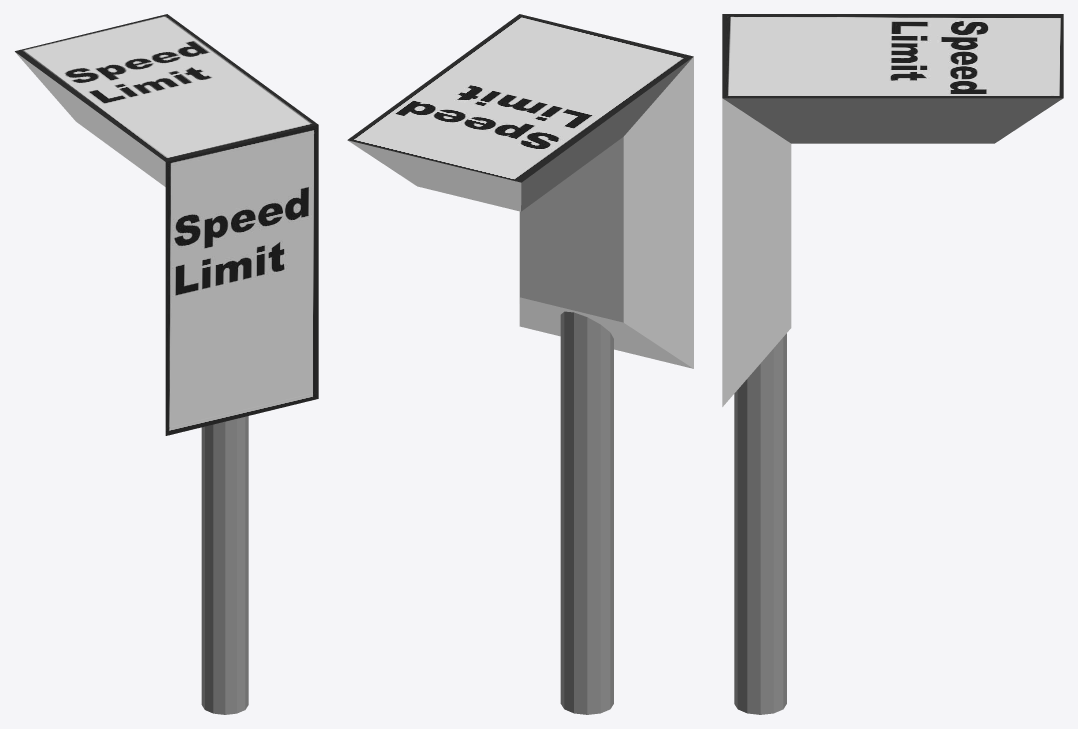
Rendered from speedLimitSign_v2.fbx.
3 views of the same model, side by side, from view 1: azimuth 30°, elevation 25°; view 2: azimuth 150°, elevation 25°; view 3: azimuth 270°, elevation 25° (orthographic). The views are drawn at different scales.
Visible parts, largest first — view 1: speedLimit_cube_01, speedLimit_pole_01; view 2: speedLimit_cube_01, speedLimit_pole_01; view 3: speedLimit_cube_01, speedLimit_pole_01.
Boxes of the visible parts, x1,y1,x2,y2 form: speedLimit_cube_01: [15, 14, 318, 435]; speedLimit_pole_01: [201, 416, 248, 714]; speedLimit_cube_01: [347, 14, 693, 368]; speedLimit_pole_01: [560, 311, 613, 714]; speedLimit_cube_01: [722, 14, 1063, 406]; speedLimit_pole_01: [734, 333, 786, 714].
Size of the model in its own units: 5.32 by 19.07 by 9.1.
